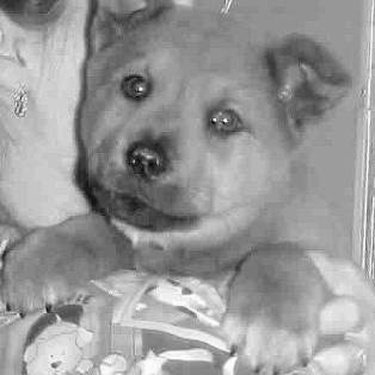dog: (3, 1, 359, 372)
